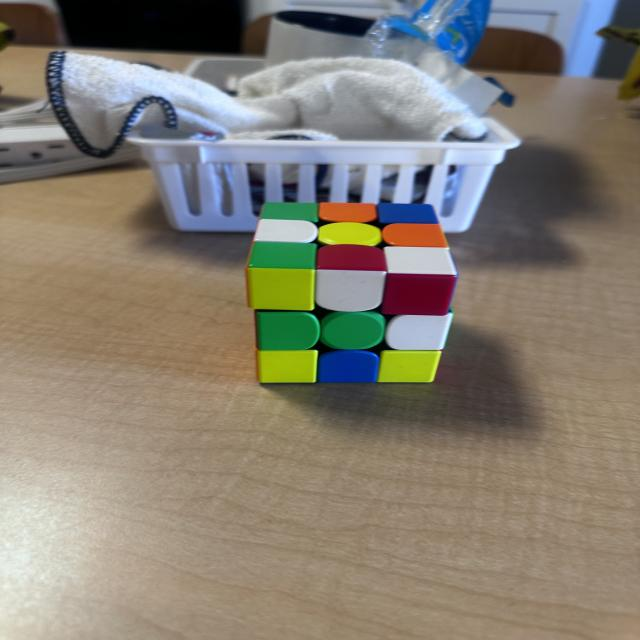sticker: (380, 243, 459, 317), (246, 242, 320, 312), (314, 244, 388, 314), (383, 311, 453, 351), (318, 310, 386, 351), (256, 310, 322, 352), (376, 349, 442, 384), (381, 246, 457, 276), (256, 349, 320, 384), (317, 349, 380, 384), (247, 240, 319, 270), (316, 243, 388, 270), (250, 218, 319, 245), (316, 221, 382, 248), (381, 223, 448, 249), (376, 203, 439, 226), (260, 201, 320, 224), (318, 202, 379, 224)
